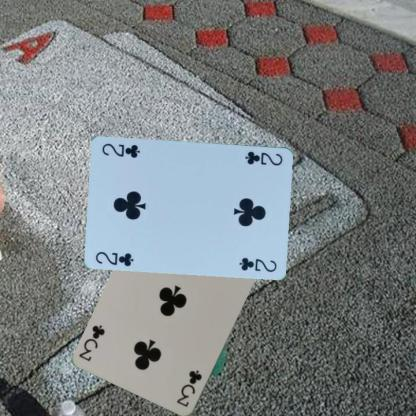2c: (243, 148, 284, 167), (94, 249, 135, 268)
3c: (174, 368, 203, 408)
